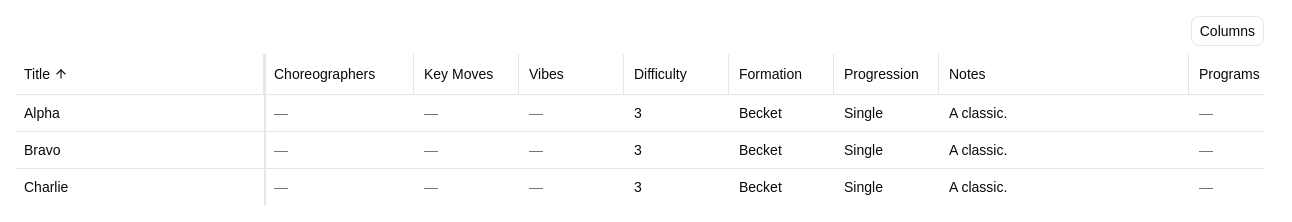
Test: DancesPage › sorting › defaults to sorting by title ascending, then toggles between ascending and descending on repeated clicks (no unsorted state, since multi-sort is disabled)
Expected: the icon with class "lucide-arrow-up" is shown, [54,67,68,81]
Click the button "Title" at (141, 74), box [24,64,258,84]
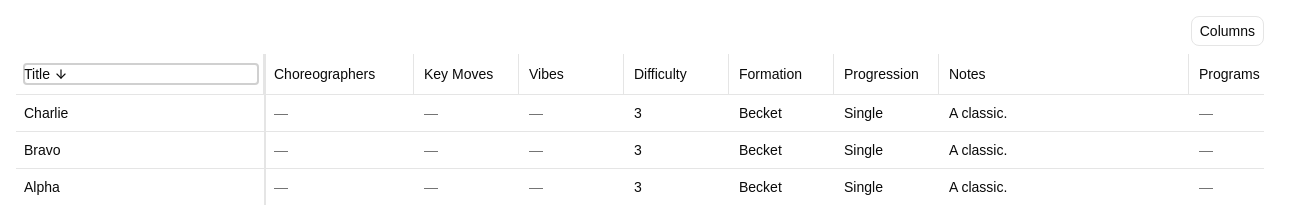
Now the icon with class "lucide-arrow-down" is shown, box [54,67,68,81]
Click the button "Title" at (141, 74), box [24,64,258,84]
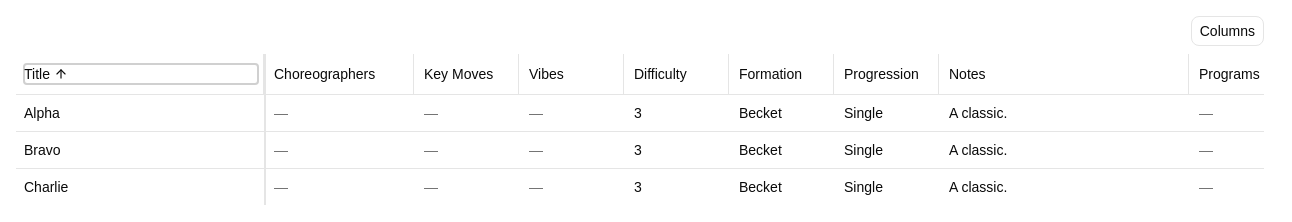
Now the icon with class "lucide-arrow-up" is shown, box [54,67,68,81]
Click the button "Title" at (141, 74), box [24,64,258,84]
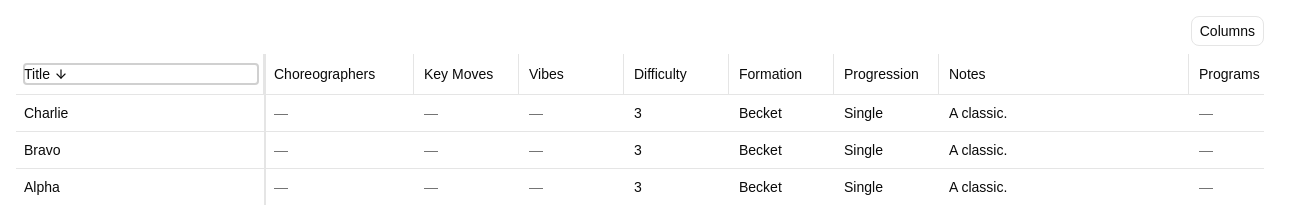
Now the icon with class "lucide-arrow-down" is shown, box [54,67,68,81]
